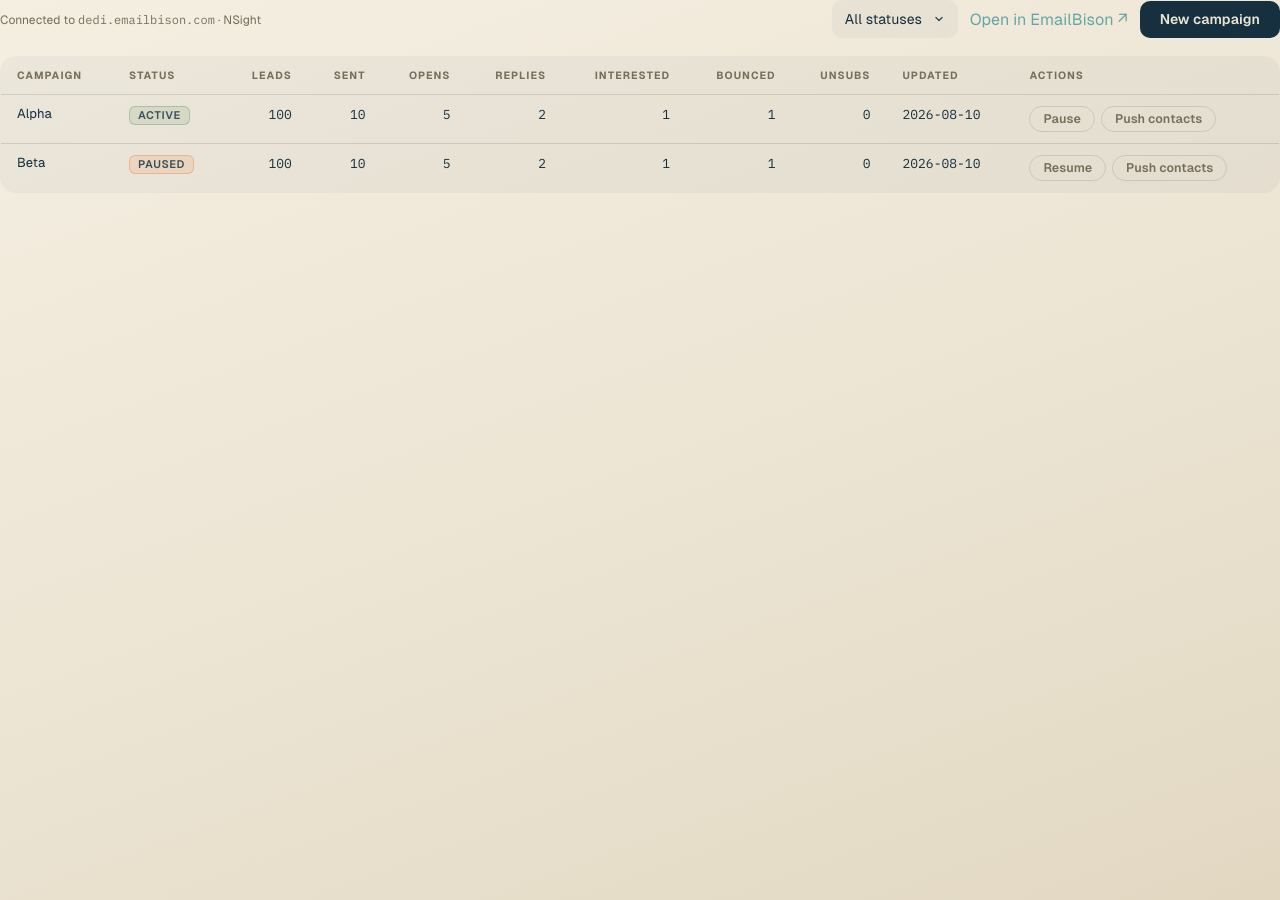
it: EmailCenter dashboard › New campaign creates a draft, links out, and refetches
Expected: the text "Alpha" is shown, [1,94,113,144]
Click the button "New campaign": (1210, 19) [1140,0,1279,38]
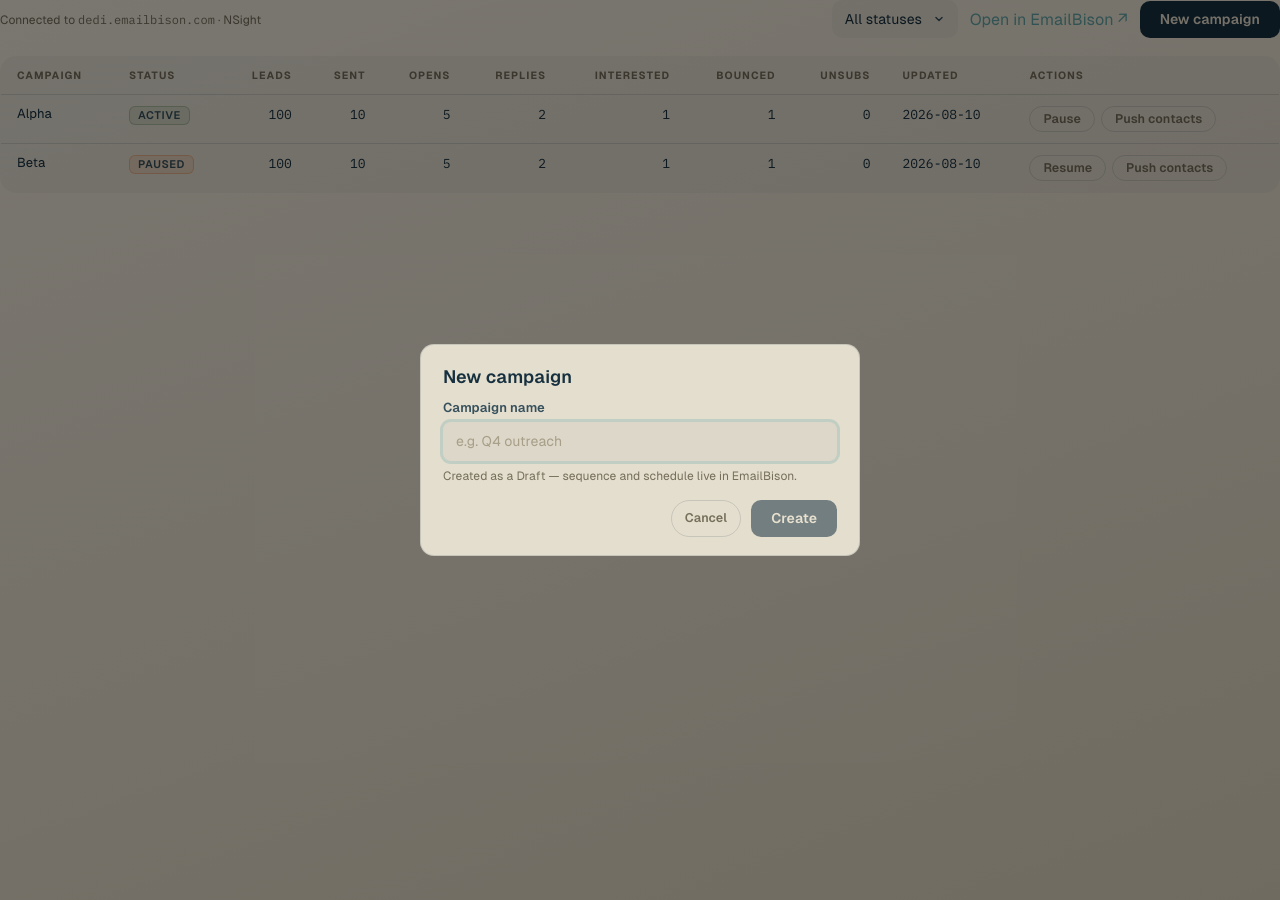
Result: the button "Create" is disabled at [751,500,837,537]
In the field labelled "Campaign name": (640, 441) [443,422,837,461], type "Q4 outreach"
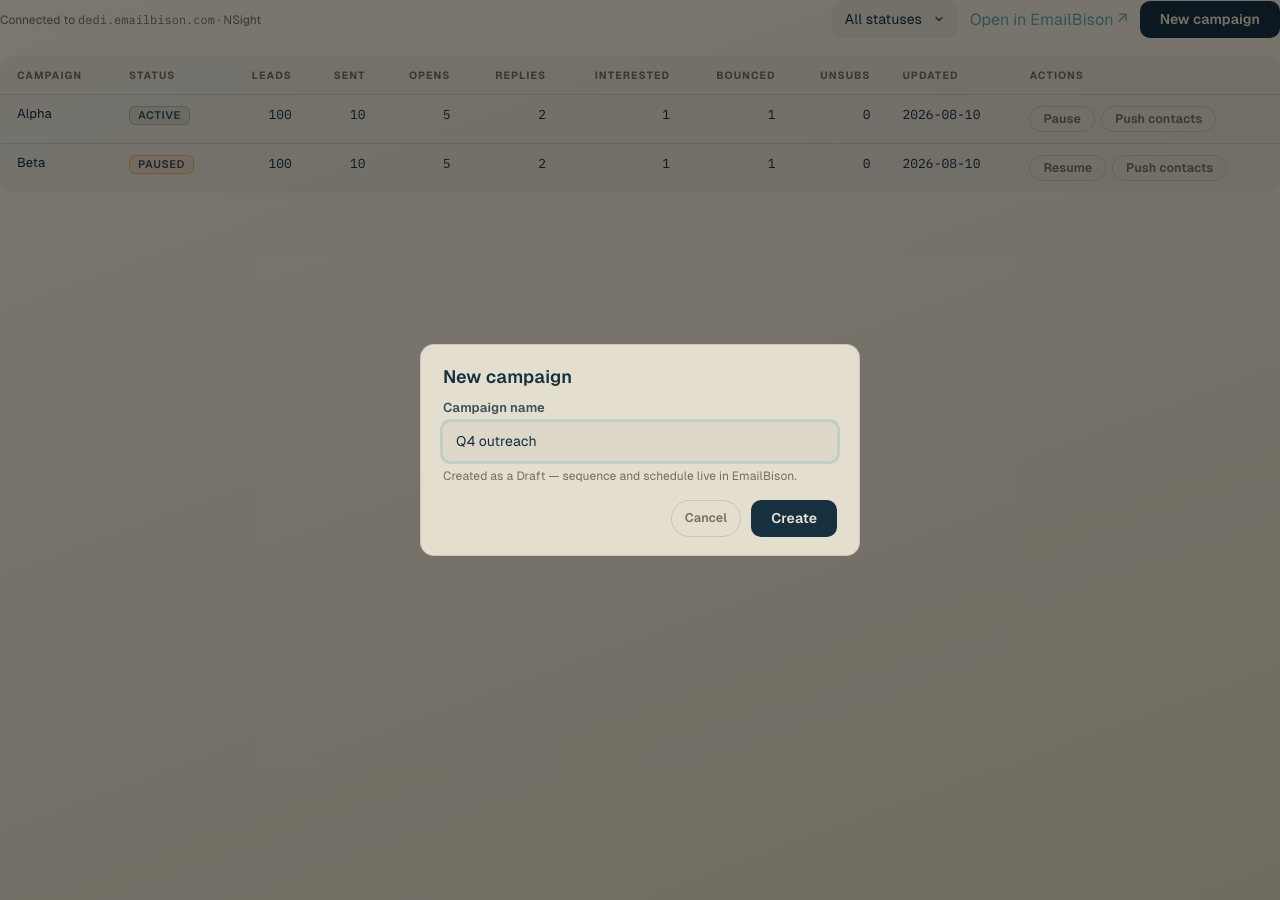
Click the button "Create": (794, 518) [751,500,837,537]
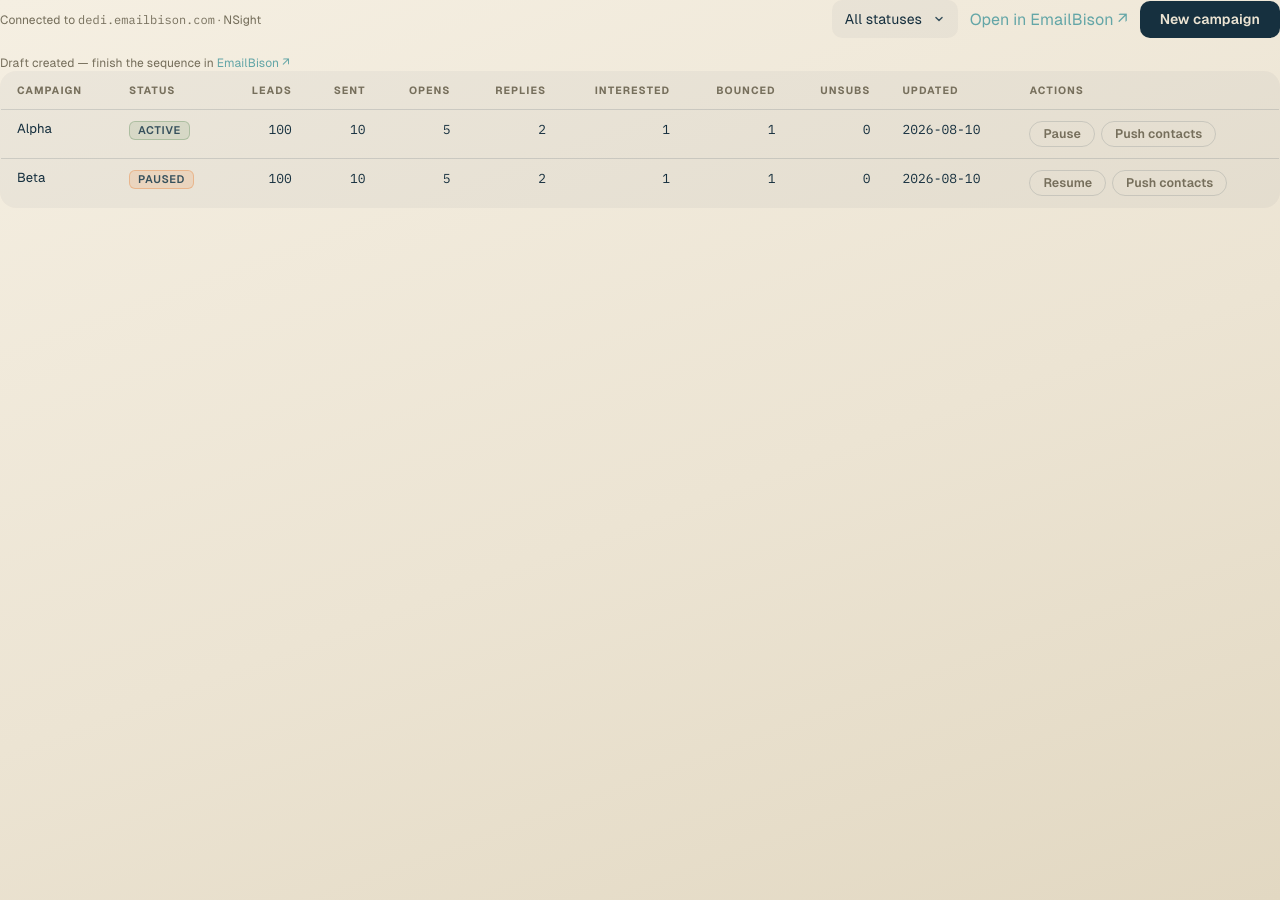
Result: the text "Draft created — finish the sequence in EmailBison ↗" is shown at [0,56,290,70]
